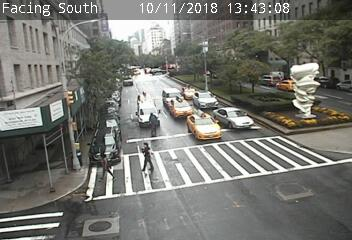car: (90, 127, 122, 163), (186, 113, 222, 140), (214, 107, 254, 130), (137, 100, 160, 128), (168, 98, 194, 118), (192, 91, 218, 109), (163, 88, 185, 108), (276, 79, 299, 92), (137, 93, 154, 110), (257, 74, 281, 86), (181, 86, 197, 100)
